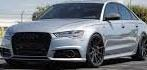Cars: (5, 4, 147, 68)
